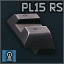PL-15 rear sight: (0, 0, 64, 64)
